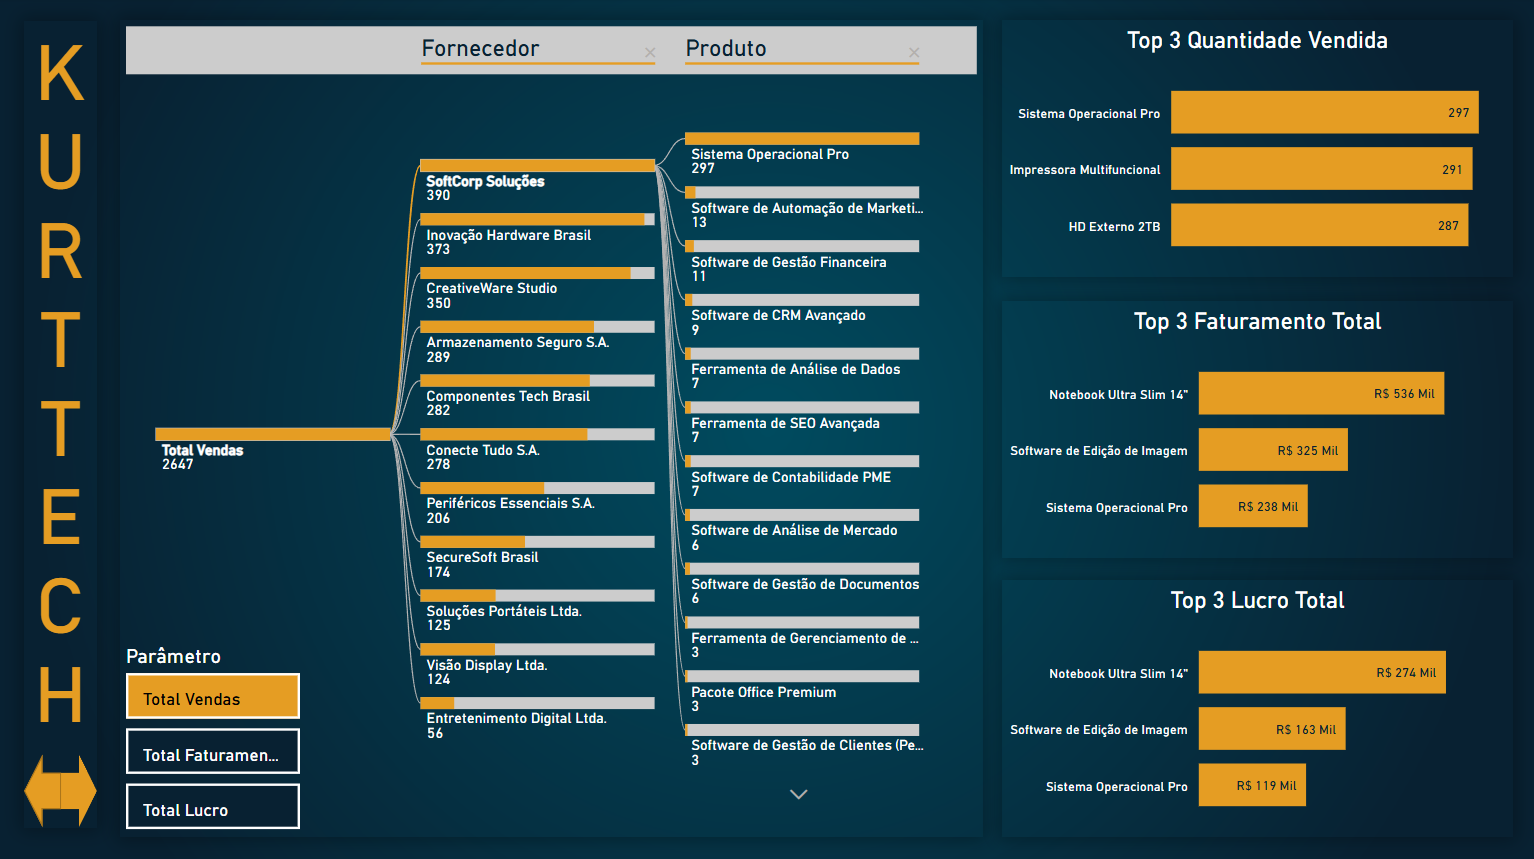

Layout of this report page (visuals, bound fields, positions):
{"tool":"powerbi","page":{"name":"Produto","canvas":[1280,720],"ordinal":2},"visuals":[{"type":"decompositionTreeVisual","title":"Quantidade Vendida","fields":{"Analyze":["FactVendas.Total Vendas"],"ExplainBy":["DimFornecedor.Nome_Fornecedor","DimProduto.Nome_Produto"]},"box":[100,20,719,681],"z":0},{"type":"barChart","title":"Top 3 Quantidade Vendida","fields":{"Y":["FactVendas.Total Vendas"],"Category":["DimProduto.Nome_Produto"]},"box":[835,20,426,214],"z":1000},{"type":"barChart","title":"Top 3 Faturamento Total","fields":{"Category":["DimProduto.Nome_Produto"],"Y":["FactVendas.Total Faturamento"]},"box":[835,254,426,214],"z":2000},{"type":"barChart","title":"Top 3 Lucro Total","fields":{"Y":["FactVendas.Total Lucro"],"Category":["DimProduto.Nome_Produto"]},"box":[835,487,426,214],"z":3000},{"type":"advancedSlicerVisual","fields":{"Values":["Parâmetro.Parâmetro"]},"box":[100,540,155,161],"z":4000},{"type":"textbox","box":[20,21,61,672],"z":5000},{"type":"shape","box":[51,632,30,61],"z":6000},{"type":"shape","box":[20,632,31,61],"z":7000},{"type":"actionButton","box":[20,632,31,61],"z":8000},{"type":"actionButton","box":[50,632,31,61],"z":9000}]}

Visuals, with their boxes in screenshot pixels (x1, y1, x2, y2), scaled from the page's 1280x720 canvas onto the 1534x859 screenshot:
"Quantidade Vendida" decompositionTreeVisual: <box>120,24,982,836</box>
"Top 3 Quantidade Vendida" barChart: <box>1001,24,1511,279</box>
"Top 3 Faturamento Total" barChart: <box>1001,303,1511,558</box>
"Top 3 Lucro Total" barChart: <box>1001,581,1511,836</box>
advancedSlicerVisual - Parâmetro.Parâmetro: <box>120,644,306,836</box>
textbox: <box>24,25,97,827</box>
shape: <box>61,754,97,827</box>
shape: <box>24,754,61,827</box>
actionButton: <box>24,754,61,827</box>
actionButton: <box>60,754,97,827</box>
